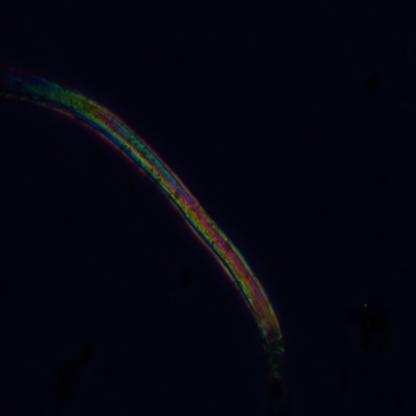Microfibre: (2, 69, 288, 373)
